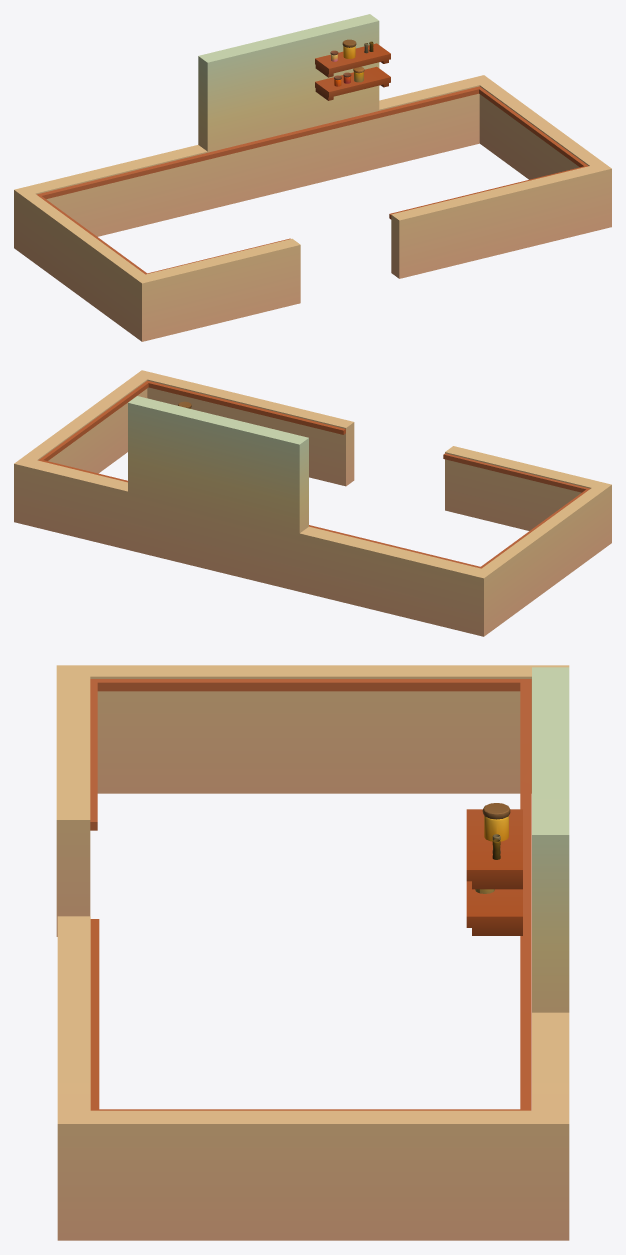
The model's file is Kitchen_Wall.fbx.
The picture shows the model from 3 angles, top to bottom: view 1: azimuth 30°, elevation 25°; view 2: azimuth 150°, elevation 25°; view 3: azimuth 270°, elevation 25°; orthographic projection. The views are drawn at different scales.
Visible parts, largest first — view 1: Wall; view 2: Wall; view 3: Wall.
Boxes of the visible parts, left/top/right/bottom form: Wall: left=14, top=14, right=611, bottom=341; Wall: left=14, top=370, right=611, bottom=636; Wall: left=56, top=665, right=569, bottom=1240.
Bounding box in the file's own units: 9.56 × 2.86 × 4.51.
